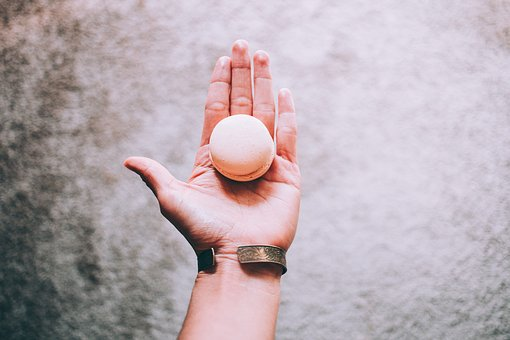palm: (202, 144, 290, 252)
